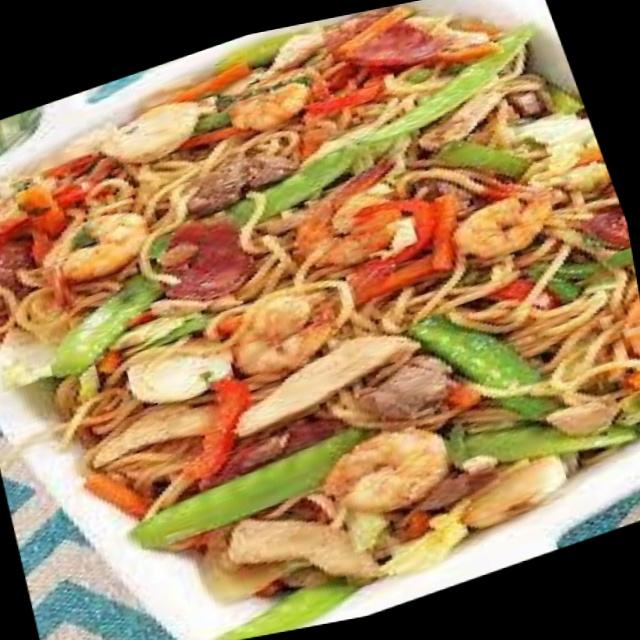pancit bihon: (0, 0, 639, 600)
